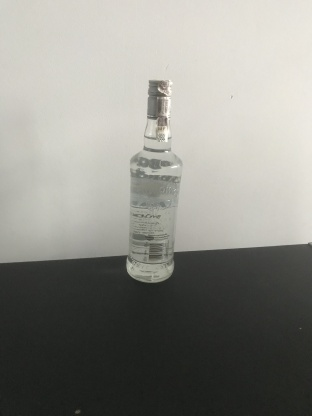nakretka: (145, 77, 174, 120)
